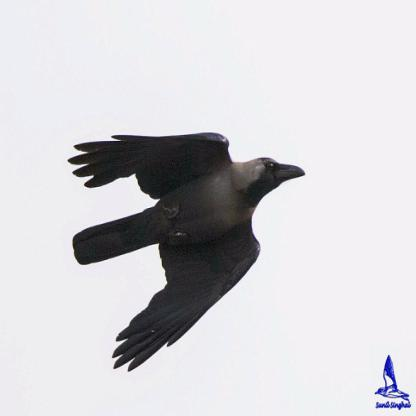Burung: (67, 132, 304, 370)
